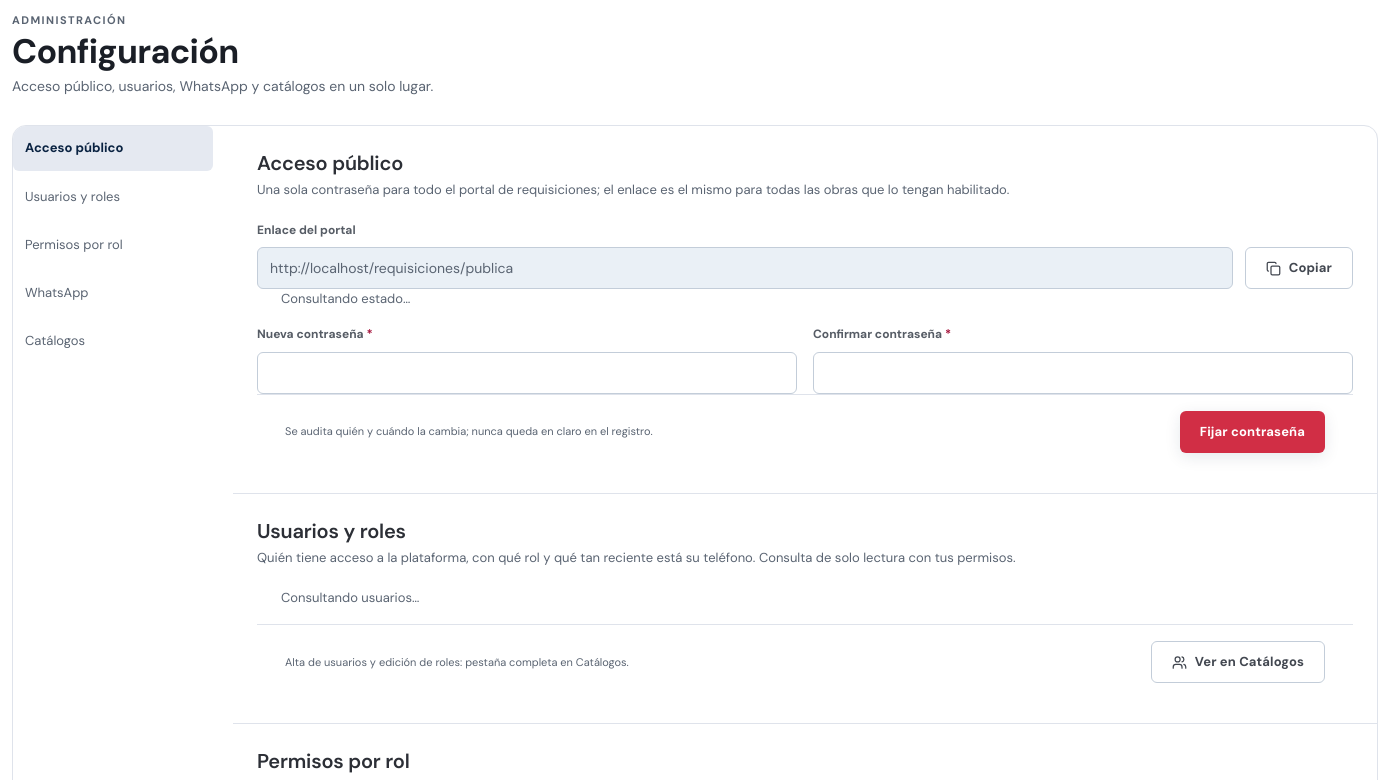
Scenario: SettingsScreen › copia el enlace único del portal al portapapeles
Expected: the field named "Enlace del portal público" is shown, [257,247,1233,289]
Click the button "Copiar": (1299, 268) [1245,247,1353,289]
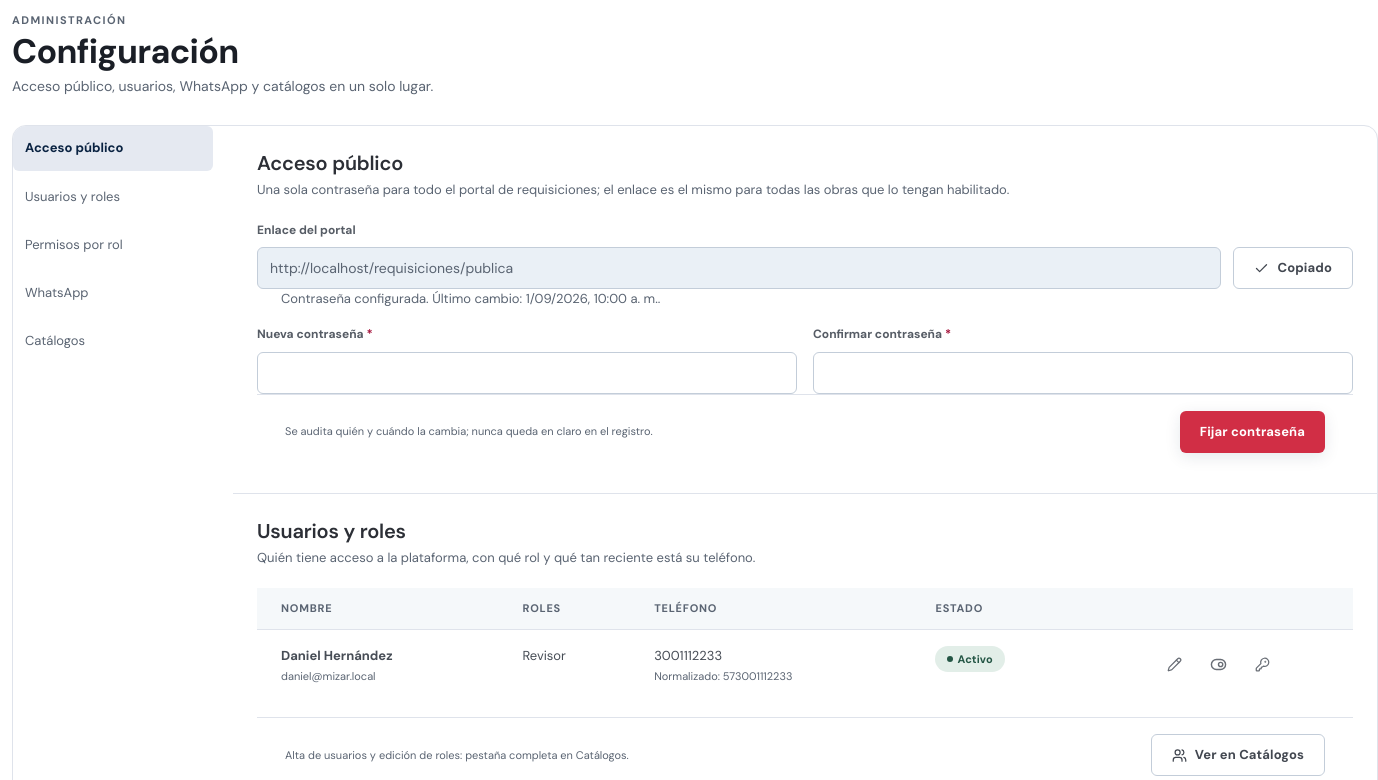
Now the button "Copiado" is shown, box [1233,247,1353,289]
